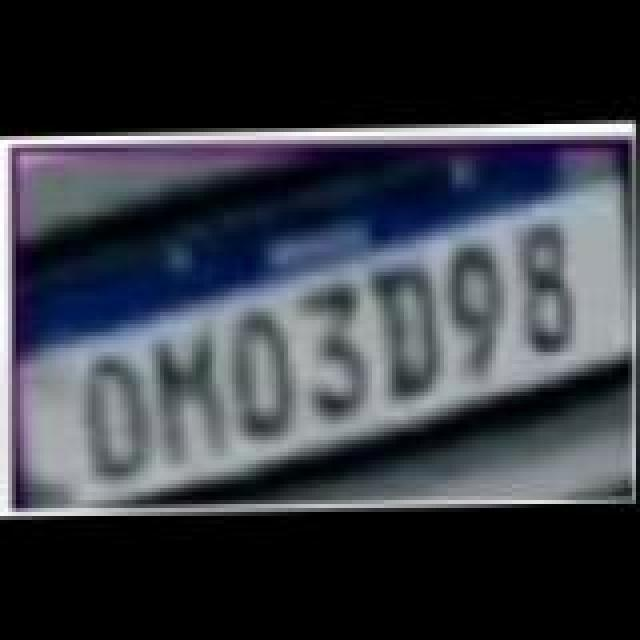3: (296, 280, 380, 420)
8: (508, 220, 584, 356)
9: (442, 244, 522, 380)
D: (366, 262, 454, 402)
M: (148, 326, 236, 466)
O: (78, 352, 162, 480), (226, 308, 306, 440)
